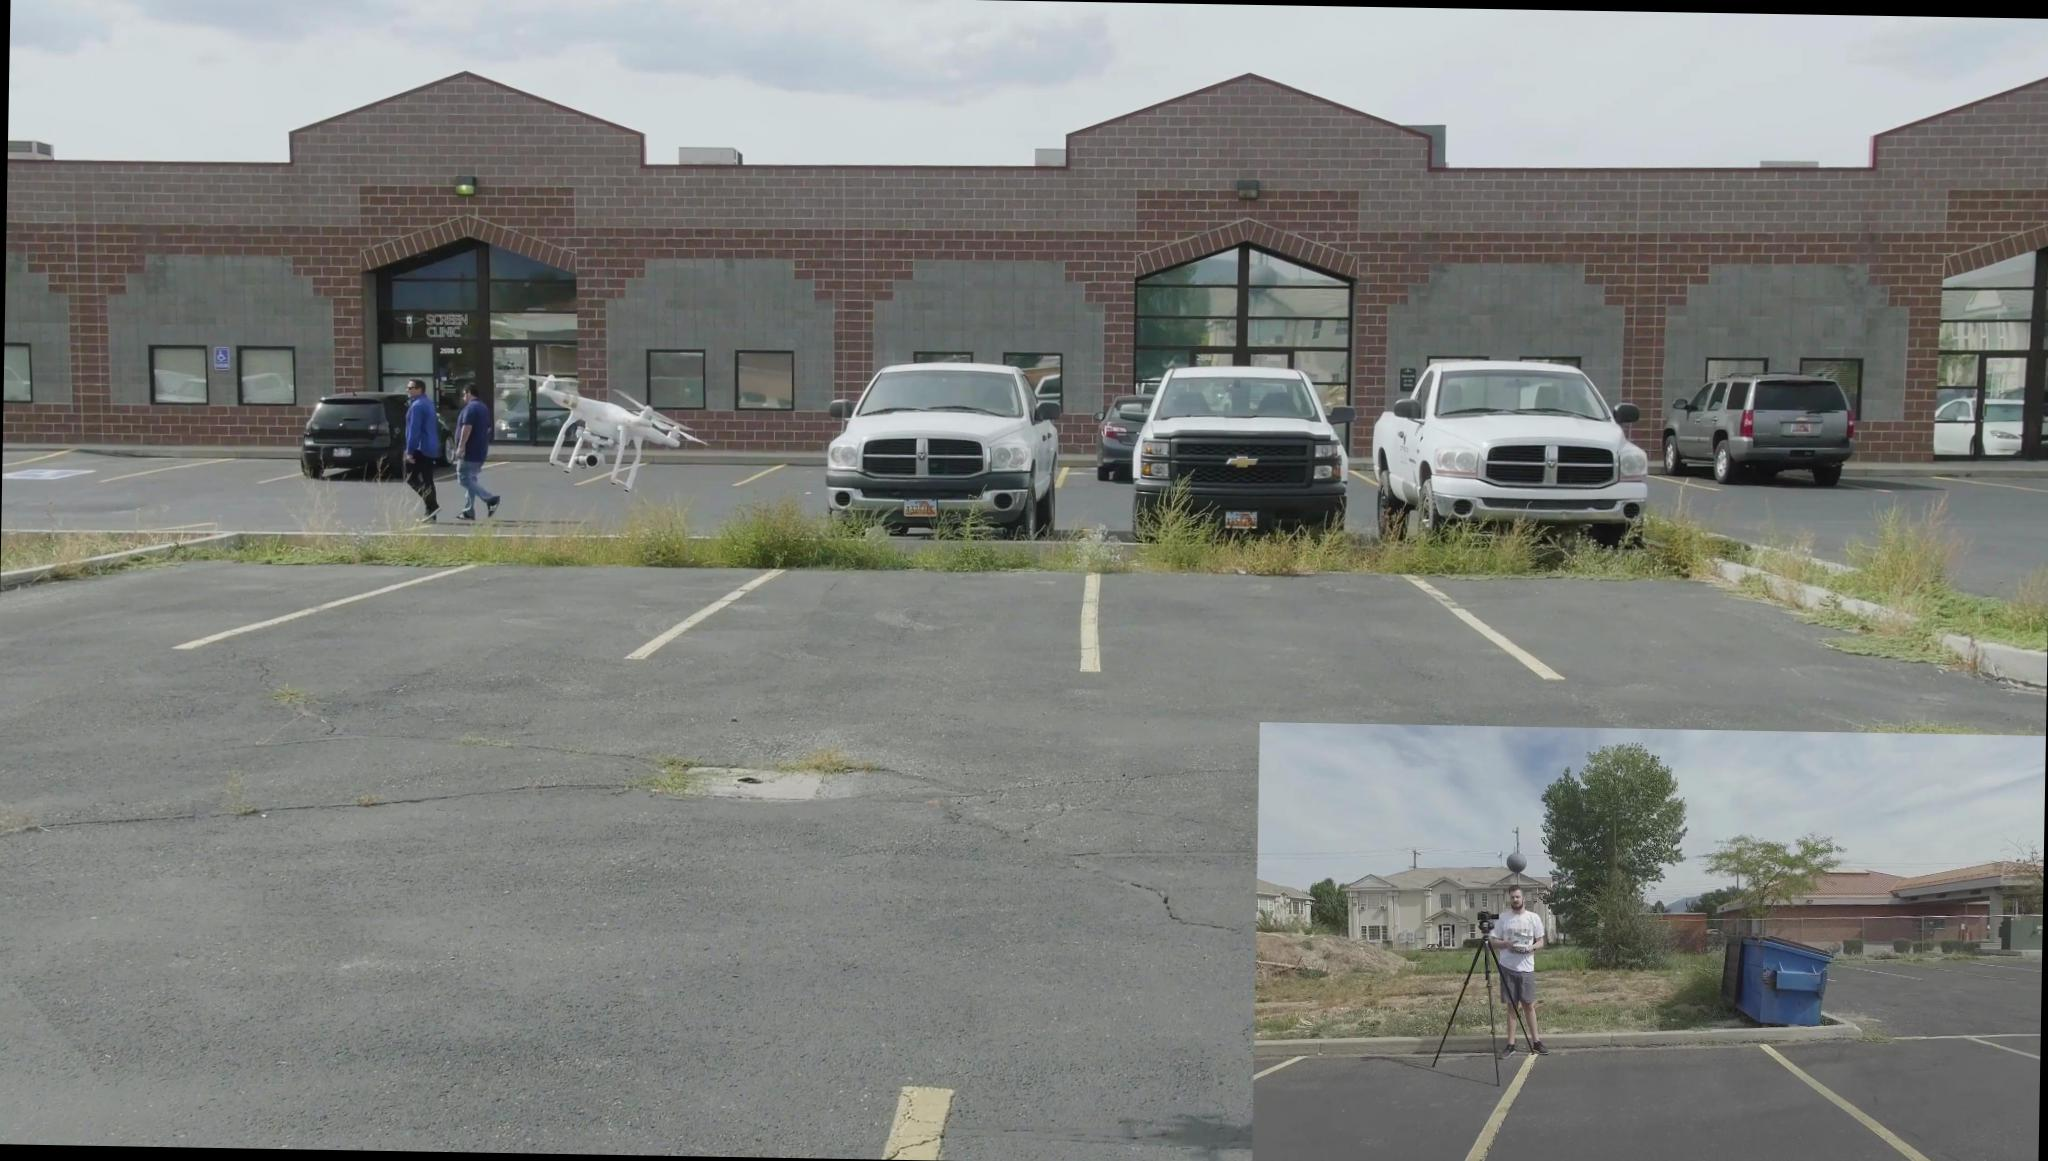drone: (522, 363, 700, 484)
